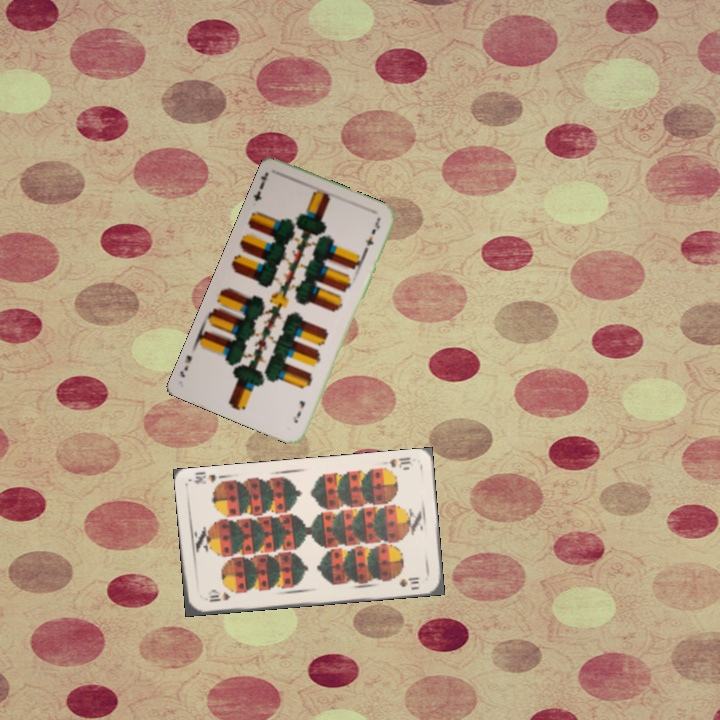E7: (250, 169, 271, 204), (289, 396, 307, 425)
S10: (385, 453, 413, 472), (205, 589, 232, 604)
